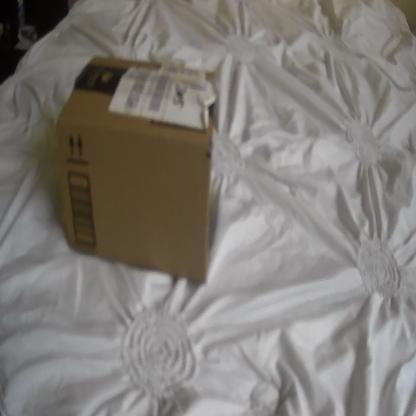package: (50, 50, 221, 296)
